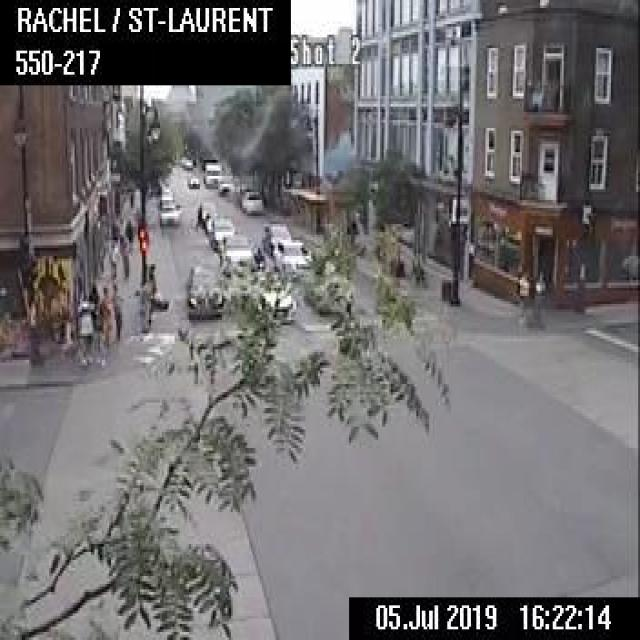pedestrian: (516, 262, 530, 322), (98, 285, 111, 346), (532, 268, 546, 320), (89, 281, 100, 338), (117, 227, 130, 275), (111, 282, 122, 335), (106, 239, 117, 281)
vehicle: (251, 272, 293, 323), (272, 239, 313, 279), (186, 265, 218, 315), (218, 234, 254, 272), (260, 221, 294, 254), (209, 214, 235, 250), (235, 187, 260, 210), (157, 201, 178, 225), (202, 160, 221, 186), (194, 200, 216, 220), (216, 174, 234, 195), (186, 173, 199, 187), (160, 188, 172, 202)
